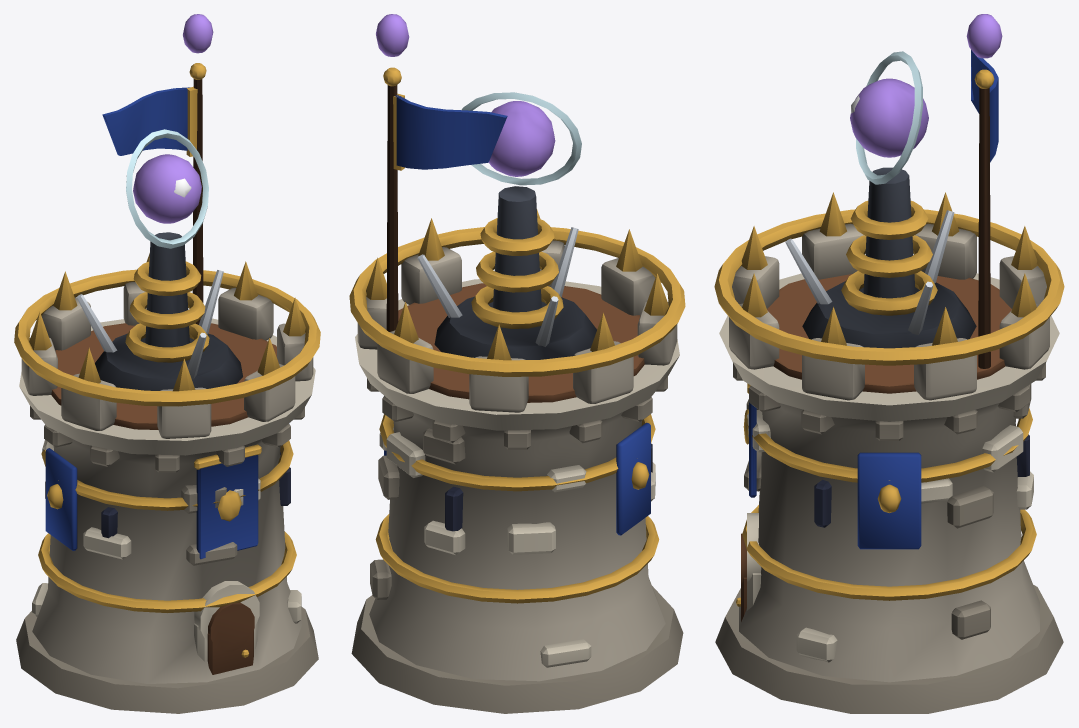
The model's file is tower_lightning.glb.
3 renders of one model, left to right at view 1: azimuth 30°, elevation 25°; view 2: azimuth 150°, elevation 25°; view 3: azimuth 270°, elevation 25°, orthographic. The views are drawn at different scales.
Visible parts, largest first — view 1: Base, Turret, Lv3, Lv2, Orb; view 2: Base, Turret, Lv3, Lv2, Orb; view 3: Base, Turret, Lv3, Lv2, Orb.
Boxes of the visible parts, x1,y1,x2,y2 form: Base: (16, 63, 318, 713); Turret: (76, 232, 242, 390); Lv3: (14, 14, 320, 406); Lv2: (38, 440, 296, 612); Orb: (126, 129, 208, 248); Base: (351, 67, 683, 713); Turret: (417, 186, 596, 359); Lv3: (349, 14, 685, 376); Lv2: (375, 414, 659, 603); Orb: (461, 92, 581, 185); Base: (715, 50, 1063, 713); Turret: (785, 167, 976, 348); Lv3: (714, 14, 1064, 365); Lv2: (742, 408, 1036, 600); Orb: (850, 51, 928, 184).
Size of what is drawn, in the model's own units: 0.884 by 1.86 by 0.884.
Materials: 1 (1 with a texture image).
